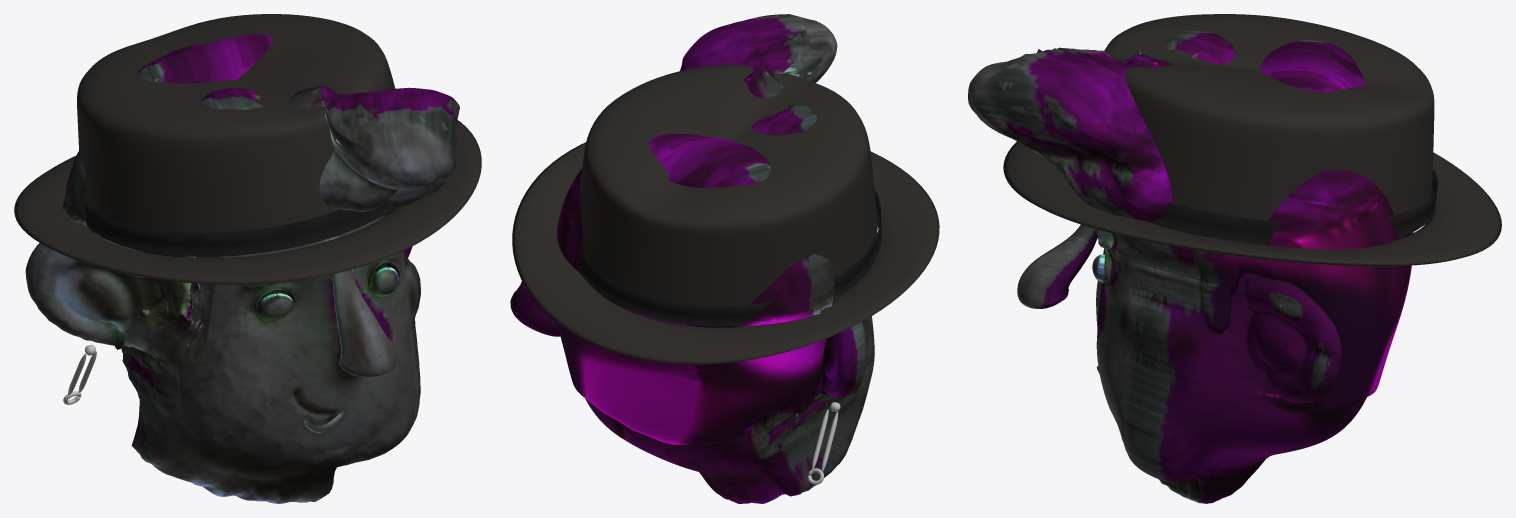
Rendered from face-stone.glb.
The picture shows the model from 3 angles, left to right: view 1: azimuth 30°, elevation 25°; view 2: azimuth 150°, elevation 25°; view 3: azimuth 270°, elevation 25°; orthographic projection. The views are drawn at different scales.
Visible parts, largest first — view 1: Hat, Skin, Hair, HatBand, Pin, EyeL, EyeR; view 2: Hat, Hair, Skin, HatBand, Pin; view 3: Hat, Skin, Hair, HatBand.
Part boxes in pixels (bbox=[...]): Hat: bbox=[14, 14, 481, 284]; Skin: bbox=[25, 209, 420, 503]; Hair: bbox=[61, 33, 459, 365]; HatBand: bbox=[83, 202, 394, 256]; Pin: bbox=[63, 345, 96, 404]; EyeL: bbox=[258, 293, 293, 317]; EyeR: bbox=[373, 267, 398, 294]; Hat: bbox=[512, 64, 939, 364]; Hair: bbox=[557, 14, 837, 445]; Skin: bbox=[510, 281, 874, 503]; HatBand: bbox=[575, 188, 880, 326]; Pin: bbox=[807, 402, 840, 484]; Hat: bbox=[1003, 14, 1501, 266]; Skin: bbox=[1017, 224, 1366, 503]; Hair: bbox=[968, 30, 1413, 412]; HatBand: bbox=[1151, 169, 1438, 245].
Bounding box in the file's own units: 2.85 × 3.04 × 3.26.
Materials: 11 (7 with a texture image).
